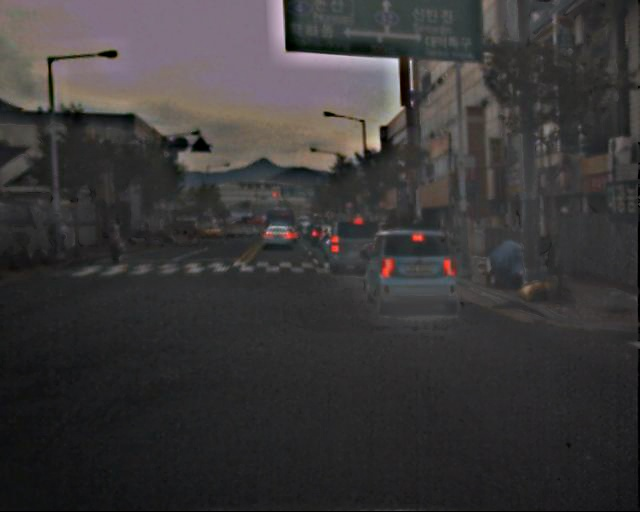person: (46, 214, 79, 260), (110, 223, 128, 265)
